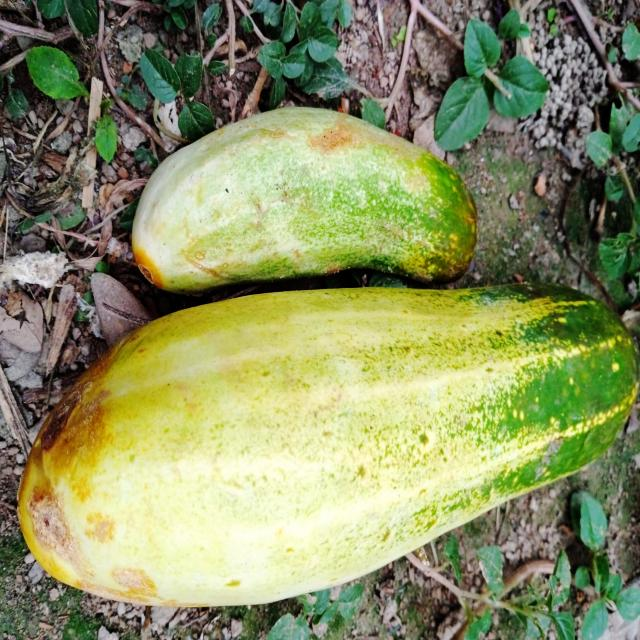Belly-Rot: (16, 343, 178, 614), (299, 109, 380, 160)
